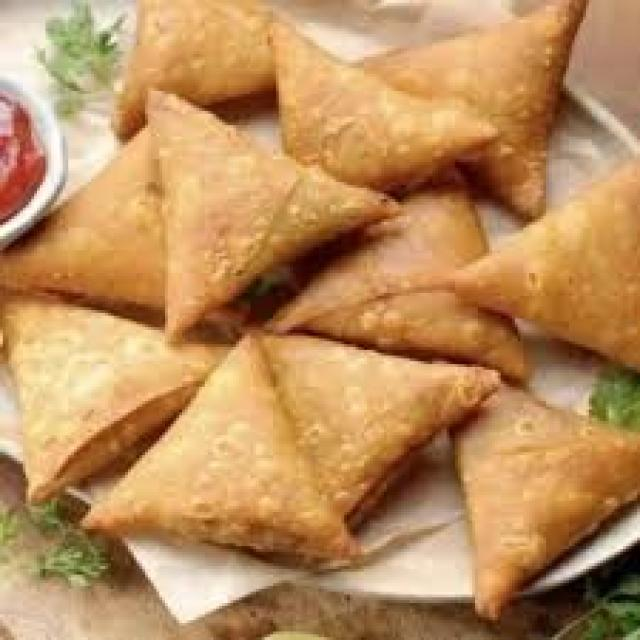SAMOSA: (154, 92, 412, 345), (69, 335, 359, 560), (269, 180, 527, 380), (359, 0, 592, 211), (6, 307, 232, 503), (268, 331, 495, 523), (460, 379, 637, 620), (448, 157, 637, 374), (288, 29, 494, 197), (0, 125, 165, 306), (116, 0, 280, 135)
